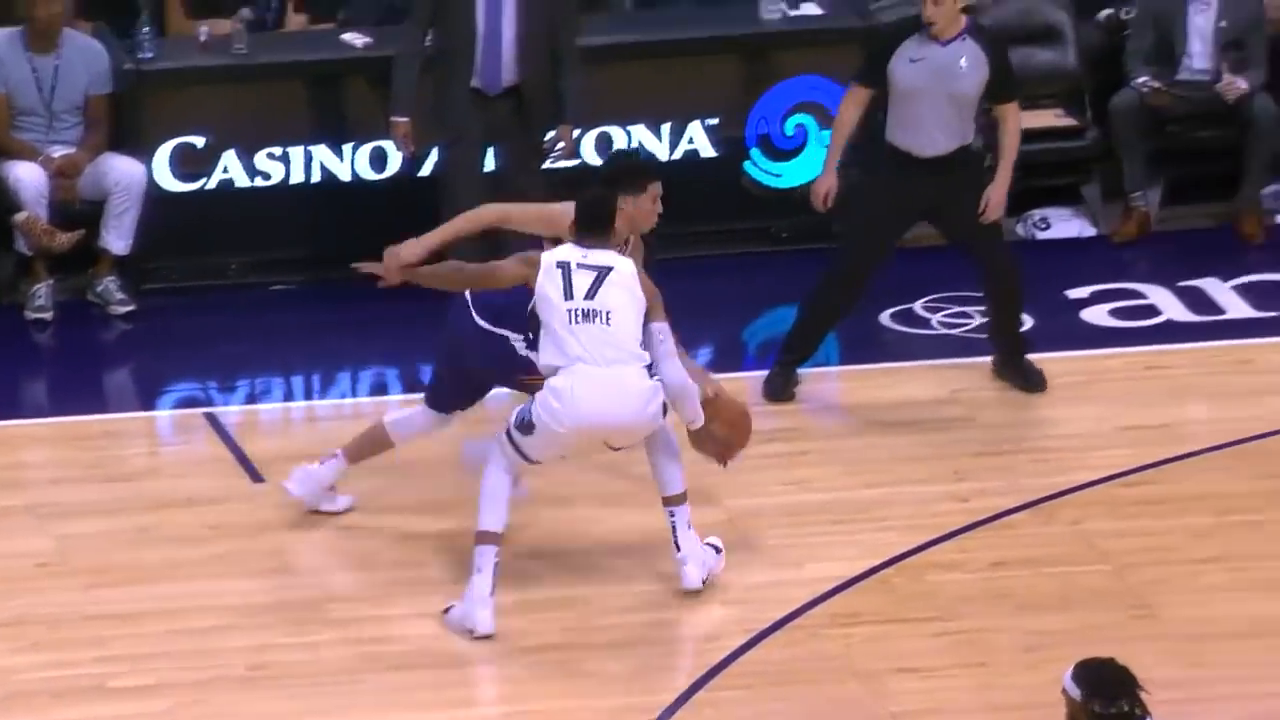ball: (692, 395, 750, 462)
